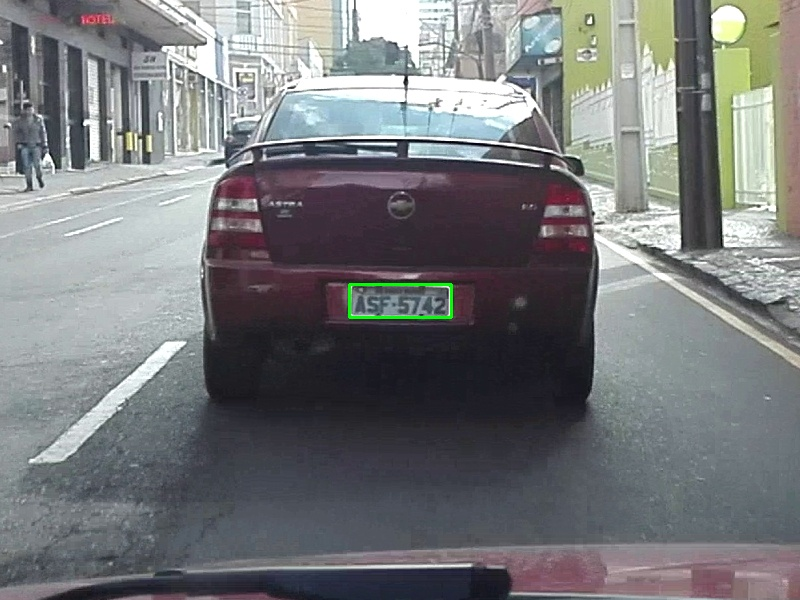placa: (349, 284, 451, 317)
